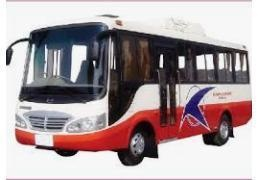bus: (5, 14, 252, 166)
